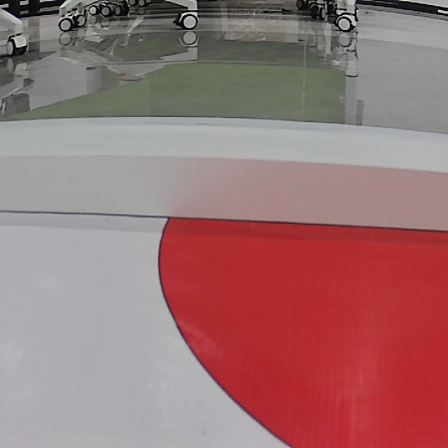red_base: (162, 214, 448, 448)
